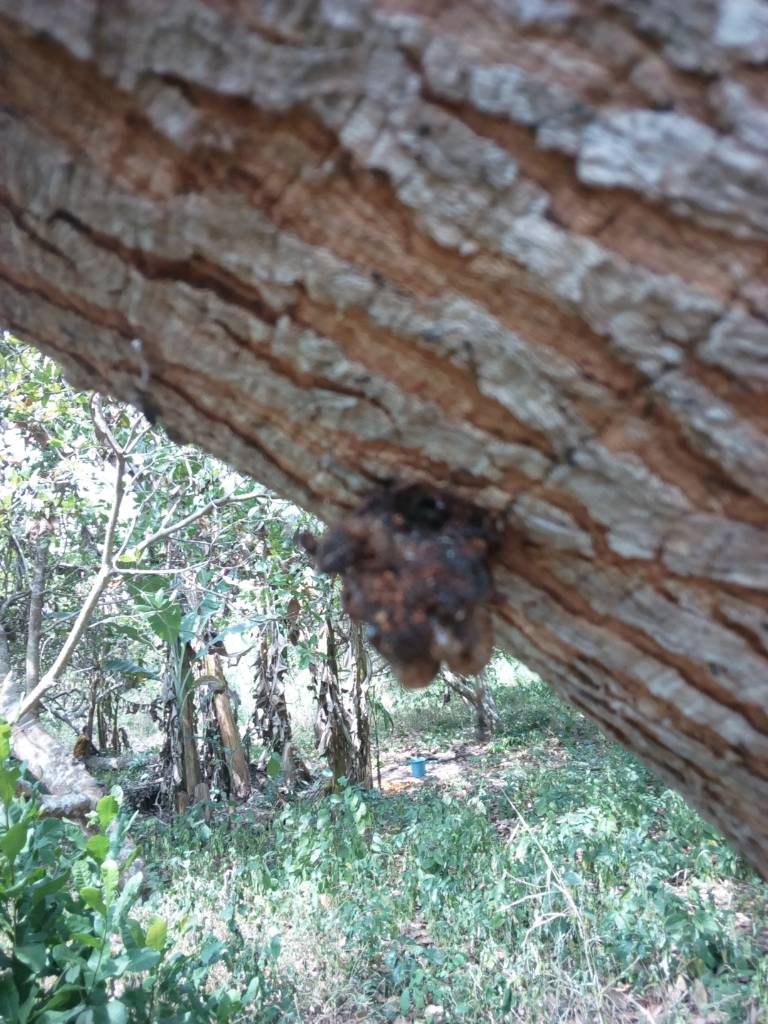Apate terebrans: (230, 383, 547, 733)
